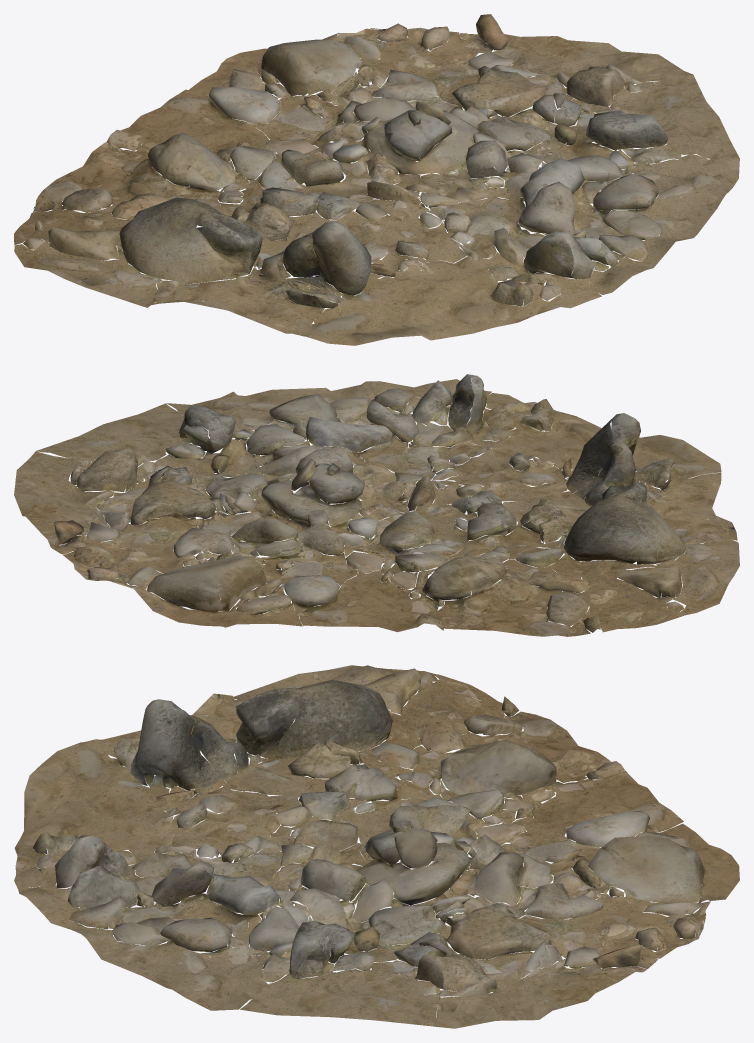
Rendered from sand-rocks-small-01.glb.
3 views of the same model, one above another, from view 1: azimuth 30°, elevation 25°; view 2: azimuth 150°, elevation 25°; view 3: azimuth 270°, elevation 25° (orthographic). The views are drawn at different scales.
Parts seen in each view (by area): view 1: sand_rocks_small_01; view 2: sand_rocks_small_01; view 3: sand_rocks_small_01.
Boxes of the visible parts, box(x1,y1,x2,y2) form: sand_rocks_small_01: box(14, 14, 739, 345); sand_rocks_small_01: box(14, 374, 739, 636); sand_rocks_small_01: box(14, 665, 739, 1028).
Size of the model in its own units: 4.63 by 0.5405 by 3.88.
Materials: 1 (1 with a texture image).
